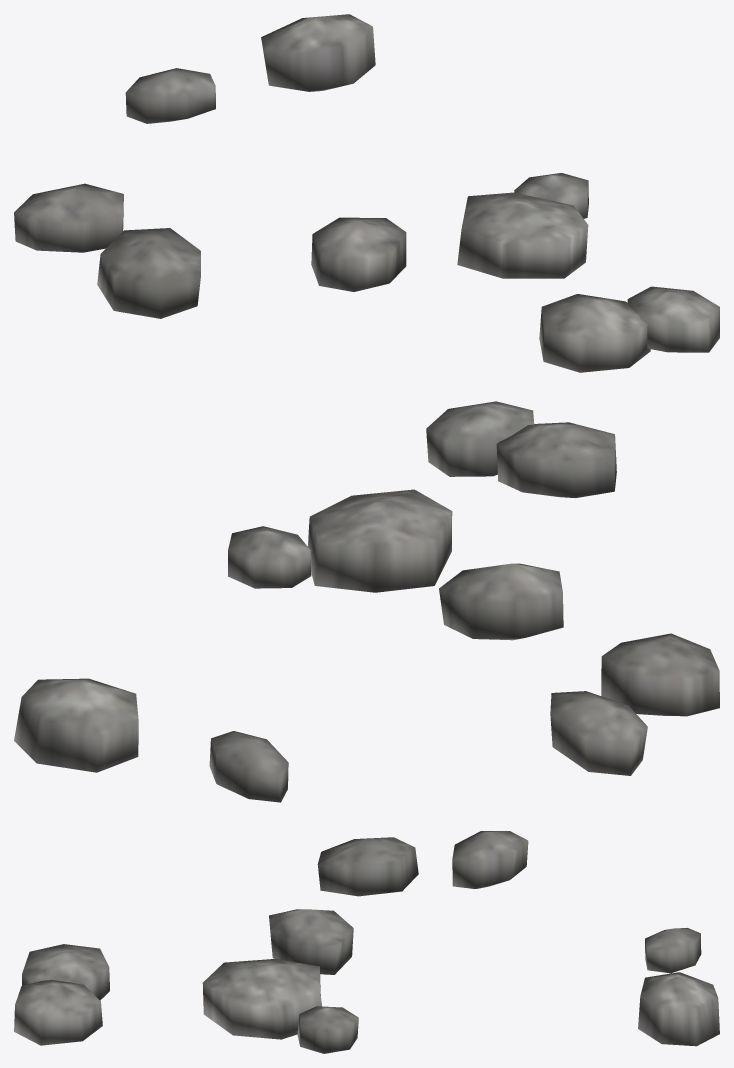
Rendered from pebbles_01.glb.
3 renders of one model, top to bottom at view 1: azimuth 30°, elevation 25°; view 2: azimuth 150°, elevation 25°; view 3: azimuth 270°, elevation 25°, orthographic. The views are drawn at different scales.
Visible parts, largest first — view 1: pebbles_01; view 2: pebbles_01; view 3: pebbles_01.
Boxes of the visible parts, x1,y1,x2,y2 form: pebbles_01: (14,14,719,372); pebbles_01: (14,401,719,802); pebbles_01: (14,831,719,1053).
Bounding box in the file's own units: 0.3582 × 0.0565 × 0.5388.
Materials: 1 (1 with a texture image).
